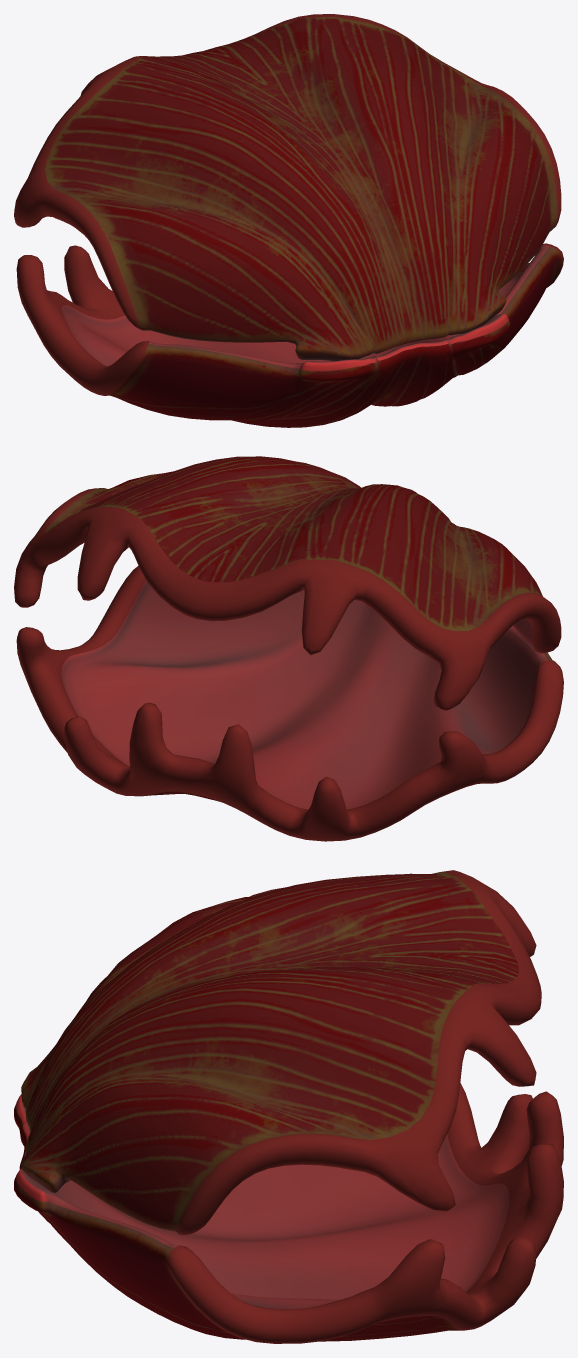
File: clam.glb
The picture shows the model from 3 angles, top to bottom: view 1: azimuth 30°, elevation 25°; view 2: azimuth 150°, elevation 25°; view 3: azimuth 270°, elevation 25°; orthographic projection. The views are drawn at different scales.
Parts seen in each view (by area): view 1: ct_top, ct_bttm; view 2: ct_bttm, ct_top; view 3: ct_top, ct_bttm.
Boxes of the visible parts, x1,y1,x2,y2 form: ct_top: (14, 14, 561, 361); ct_bttm: (16, 243, 563, 427); ct_bttm: (16, 566, 563, 841); ct_top: (14, 456, 561, 710); ct_top: (21, 870, 541, 1235); ct_bttm: (14, 1083, 563, 1343).
Bounding box in the file's own units: 0.1406 × 0.0891 × 0.1239.
Materials: 3 (3 with a texture image).
